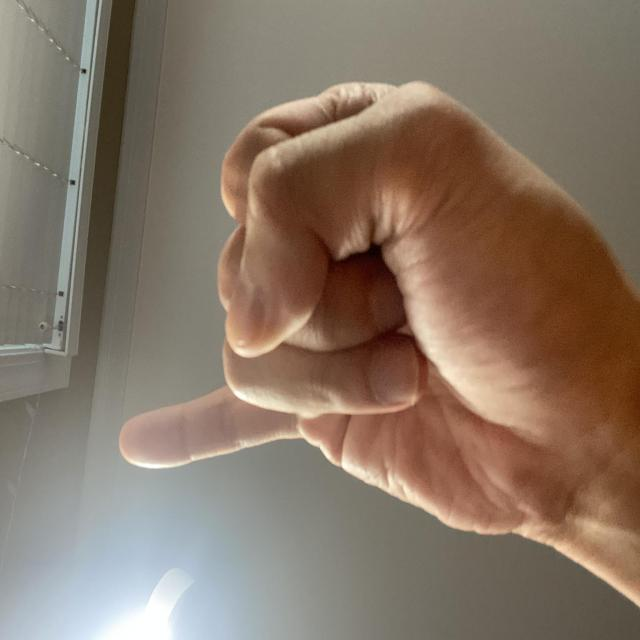I: (68, 147, 425, 640)
